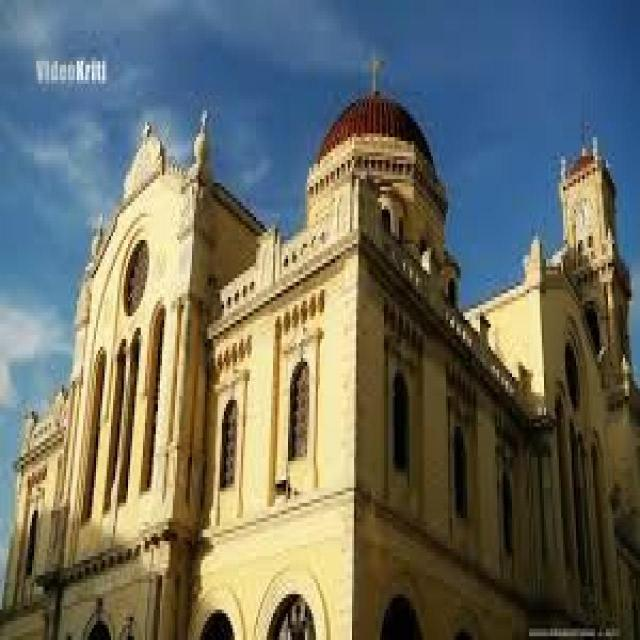Agios Minas: (1, 27, 640, 640)
